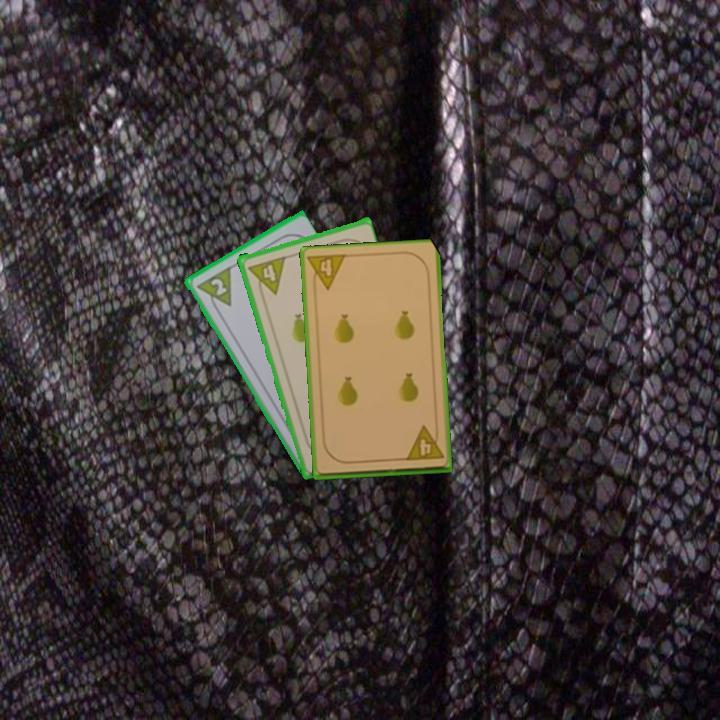2p: (192, 263, 235, 316)
4p: (244, 253, 288, 300), (304, 251, 349, 295), (402, 423, 446, 464)
